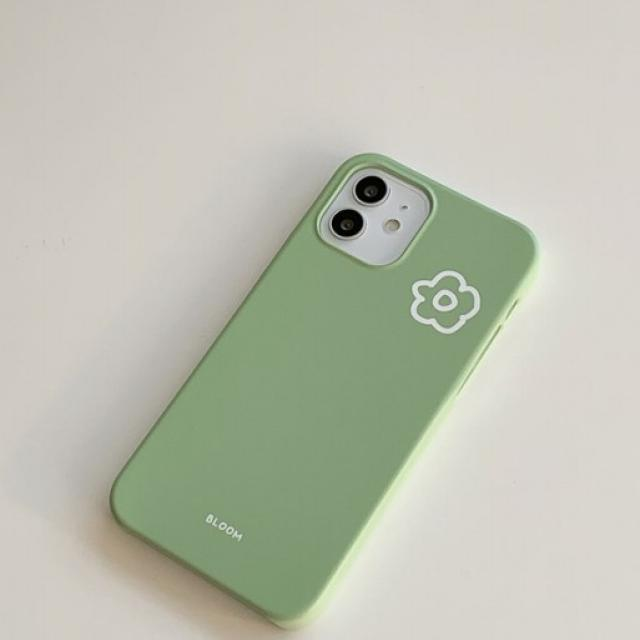phone: (110, 152, 538, 626)
